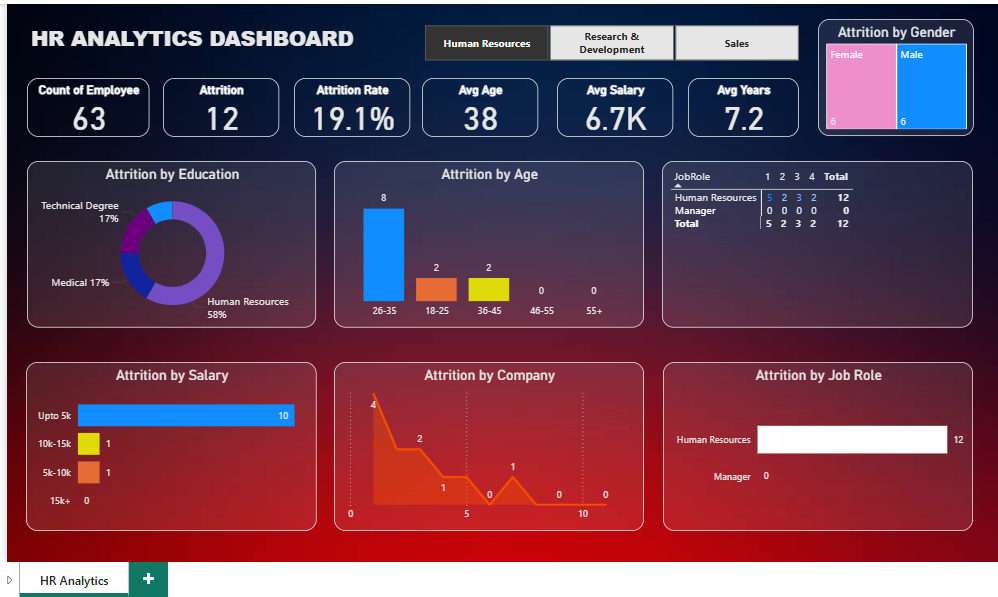

The dashboard page shown, as its layout file describes it:
{"tool":"powerbi","page":{"name":"Page 1","canvas":[1280,720],"ordinal":0},"visuals":[{"type":"card","title":"Count of Employee","fields":{"Values":["Count(HR_Analytics.EmpID)"]},"box":[26.4,95.1,158.5,75.7],"z":0},{"type":"card","title":"Attrition","fields":{"Values":["Sum(HR_Analytics.AttritionCount)"]},"box":[200.7,95.1,149.7,75.7],"z":1000},{"type":"card","title":"Attrition Rate","fields":{"Values":["HR_Analytics.AttritionRate"]},"box":[369.7,95.1,149.7,75.7],"z":2000},{"type":"card","title":"Avg Age","fields":{"Values":["Avg(HR_Analytics.Age)"]},"box":[535.2,95.1,149.7,75.7],"z":3000},{"type":"card","title":"Avg Years","fields":{"Values":["Avg(HR_Analytics.YearsAtCompany)"]},"box":[878.6,95.1,142.6,75.7],"z":4000},{"type":"card","title":"Avg Salary","fields":{"Values":["Avg(HR_Analytics.MonthlyIncome)"]},"box":[709.5,95.1,149.7,75.7],"z":5000},{"type":"donutChart","title":"Attrition by Education","fields":{"Category":["HR_Analytics.EducationField"],"Y":["Sum(HR_Analytics.AttritionCount)"]},"box":[26.4,202.5,373.3,214.8],"z":6000},{"type":"columnChart","title":"Attrition by Age","fields":{"Category":["HR_Analytics.AgeGroup"],"Y":["Sum(HR_Analytics.AttritionCount)"]},"box":[422.6,202.5,399.7,214.8],"z":7000},{"type":"pivotTable","fields":{"Rows":["HR_Analytics.JobRole"],"Columns":["HR_Analytics.JobSatisfaction"],"Values":["Sum(HR_Analytics.AttritionCount)"]},"box":[845.1,202.5,401.4,214.8],"z":8000},{"type":"barChart","title":"Attrition by Salary","fields":{"Category":["HR_Analytics.SalarySlab"],"Y":["Sum(HR_Analytics.AttritionCount)"]},"box":[24.6,461.3,375,218.3],"z":9000},{"type":"barChart","title":"Attrition by Job Role","fields":{"Y":["Sum(HR_Analytics.AttritionCount)"],"Category":["HR_Analytics.JobRole"]},"box":[846.9,461.3,399.7,218.3],"z":10000},{"type":"areaChart","title":"Attrition by Company","fields":{"Category":["HR_Analytics.YearsAtCompany"],"Y":["Sum(HR_Analytics.AttritionCount)"]},"box":[422.6,461.3,399.7,218.3],"z":11000},{"type":"treemap","title":"Attrition by Gender","fields":{"Values":["Sum(HR_Analytics.AttritionCount)"],"Group":["HR_Analytics.Gender"]},"box":[1045.8,19.4,200.7,151.4],"z":12000},{"type":"slicer","title":"Departments","fields":{"Values":["HR_Analytics.Department"]},"box":[513.4,20,532,58.6],"z":13000},{"type":"textbox","box":[25.7,20,463.4,60.1],"z":14000}]}

Visuals, with their boxes in screenshot pixels (x1, y1, x2, y2):
"Count of Employee" card: bbox(5, 97, 132, 157)
"Attrition" card: bbox(144, 97, 264, 157)
"Attrition Rate" card: bbox(279, 97, 398, 157)
"Avg Age" card: bbox(411, 97, 530, 157)
"Avg Years" card: bbox(685, 97, 798, 157)
"Avg Salary" card: bbox(550, 97, 669, 157)
"Attrition by Education" donutChart: bbox(5, 182, 303, 353)
"Attrition by Age" columnChart: bbox(321, 182, 640, 353)
pivotTable - HR_Analytics.JobRole x HR_Analytics.JobSatisfaction: bbox(658, 182, 978, 353)
"Attrition by Salary" barChart: bbox(4, 389, 303, 563)
"Attrition by Job Role" barChart: bbox(660, 389, 978, 563)
"Attrition by Company" areaChart: bbox(321, 389, 640, 563)
"Attrition by Gender" treemap: bbox(818, 36, 978, 157)
"Departments" slicer: bbox(394, 37, 818, 83)
textbox: bbox(5, 37, 374, 85)
